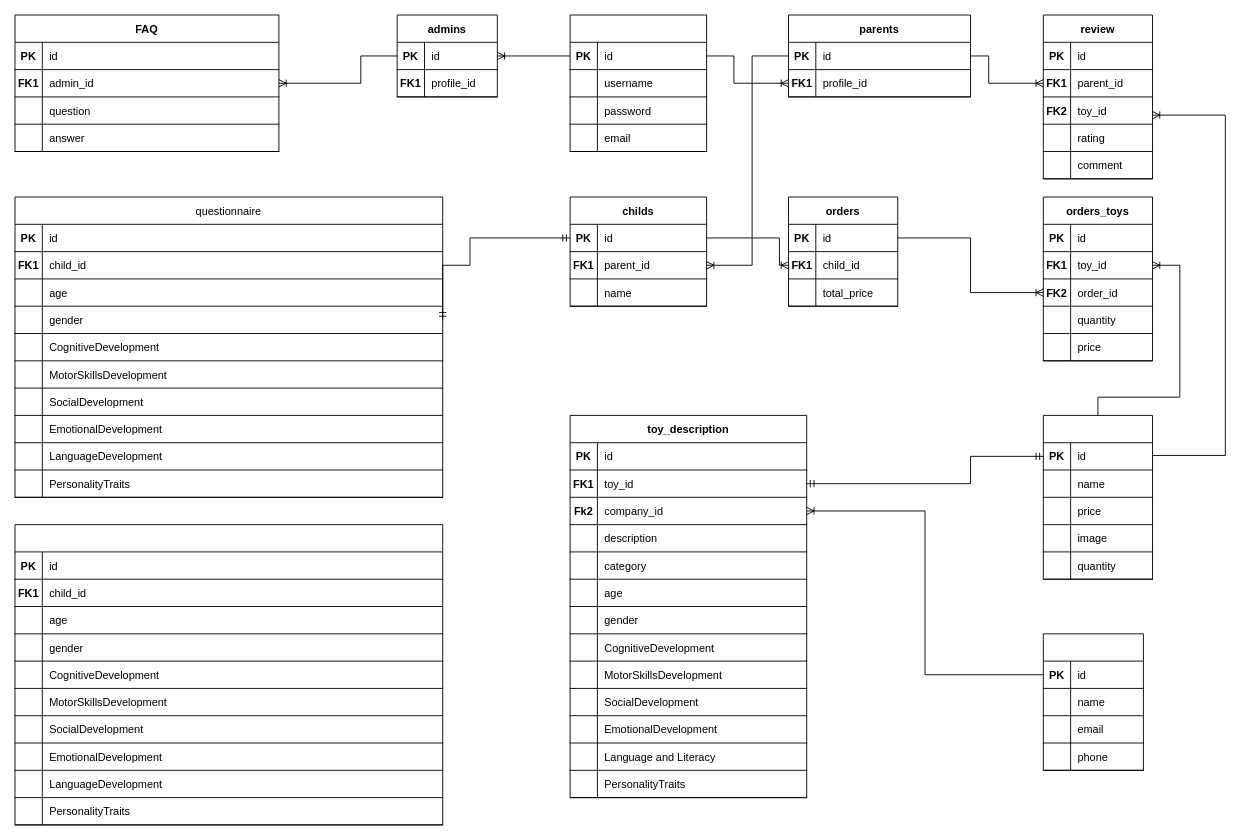
This 1240x840 diagram has some shape labels left out. Here are the shapes that lost their labels. From the top down, the box of each, then its label:
(569, 14, 707, 152): profiles
(1042, 415, 1153, 579): toys
(14, 524, 443, 825): questionnaire_responses
(1042, 633, 1143, 770): company
